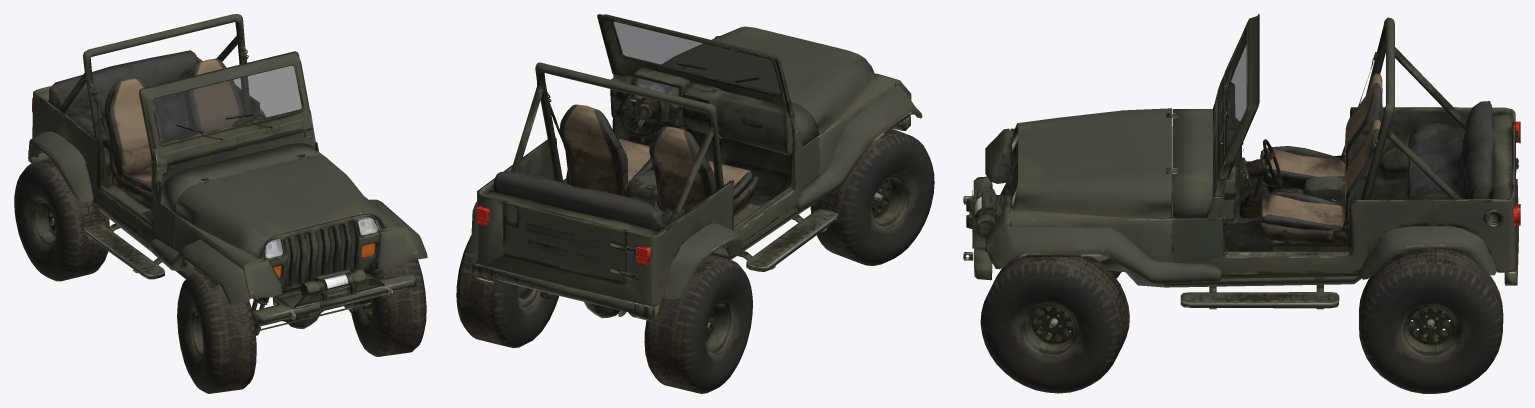
Rendered from jeep-wrangler-free-4528c9.glb.
3 renders of one model, left to right at view 1: azimuth 30°, elevation 25°; view 2: azimuth 150°, elevation 25°; view 3: azimuth 270°, elevation 25°, orthographic. The views are drawn at different scales.
Parts seen in each view (by area): view 1: body; view 2: body; view 3: body.
Part boxes in pixels (left/top/right/bottom): body: left=14, top=14, right=427, bottom=393; body: left=456, top=14, right=934, bottom=393; body: left=963, top=14, right=1520, bottom=393.
Bounding box in the file's own units: 2.37 × 2.36 × 4.26.
Materials: 2 (2 with a texture image).
